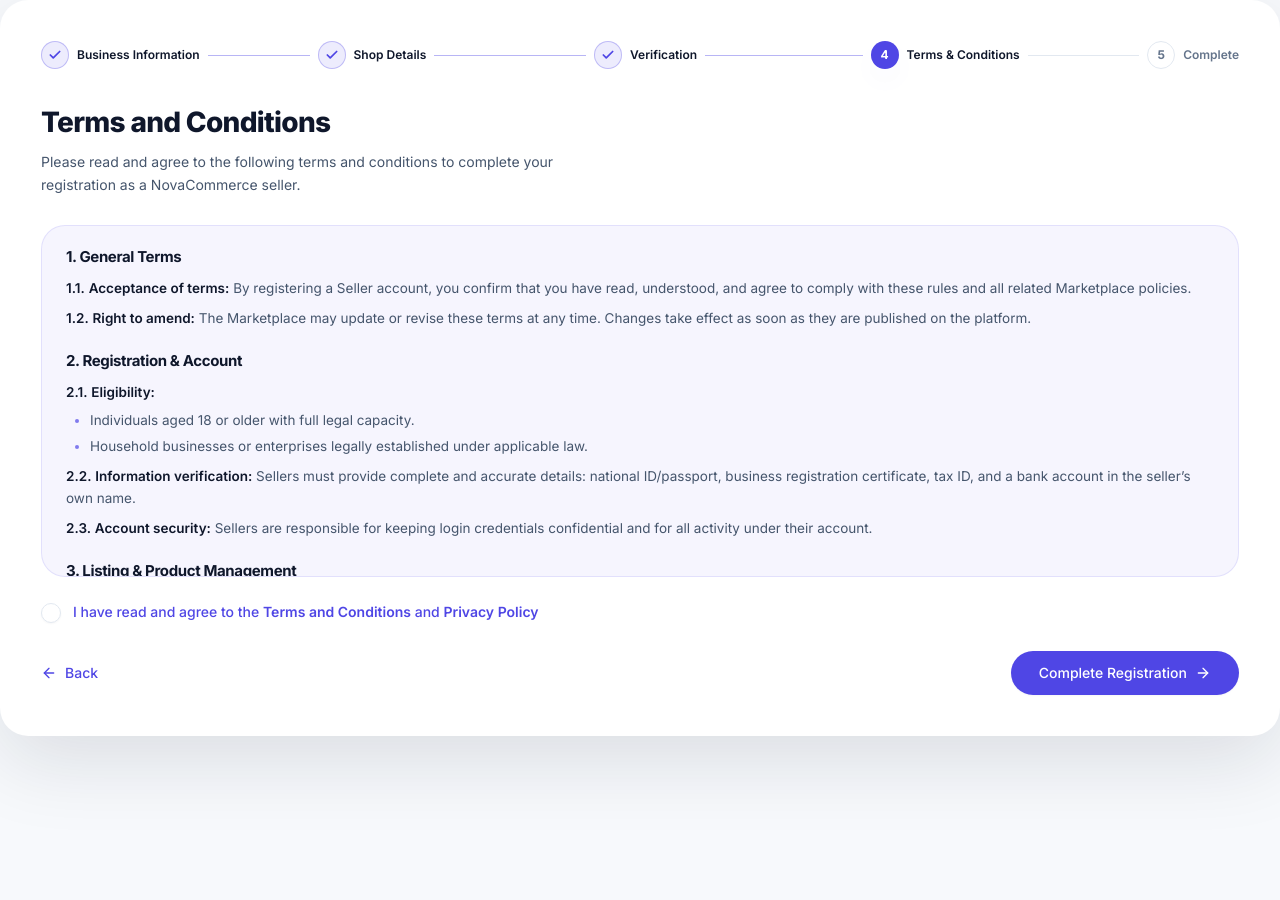
Test: SellerRegisterForm terms › returns to verification from terms
Click the button "Back": (70, 673) [41, 651, 98, 695]
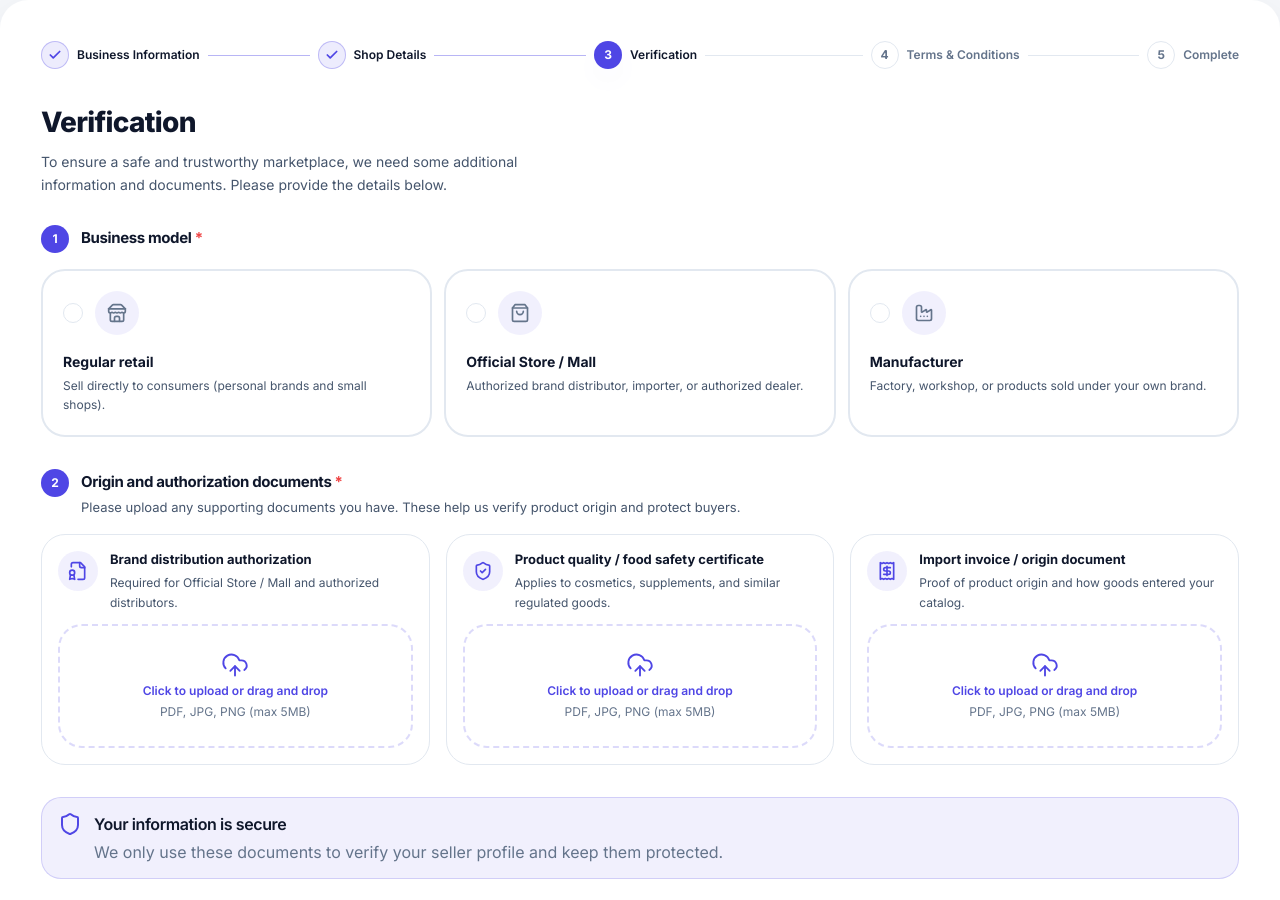
Check: the heading "Verification" is shown, box [41, 105, 196, 139]
